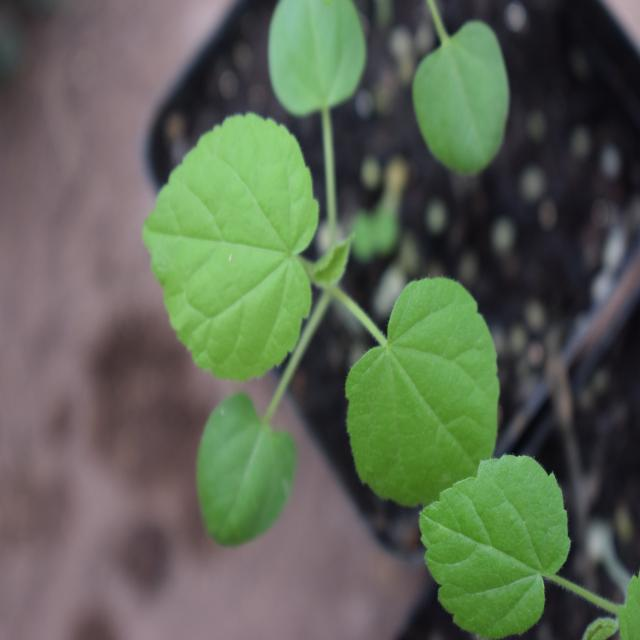abutilon theophrasti: (160, 84, 493, 514)
